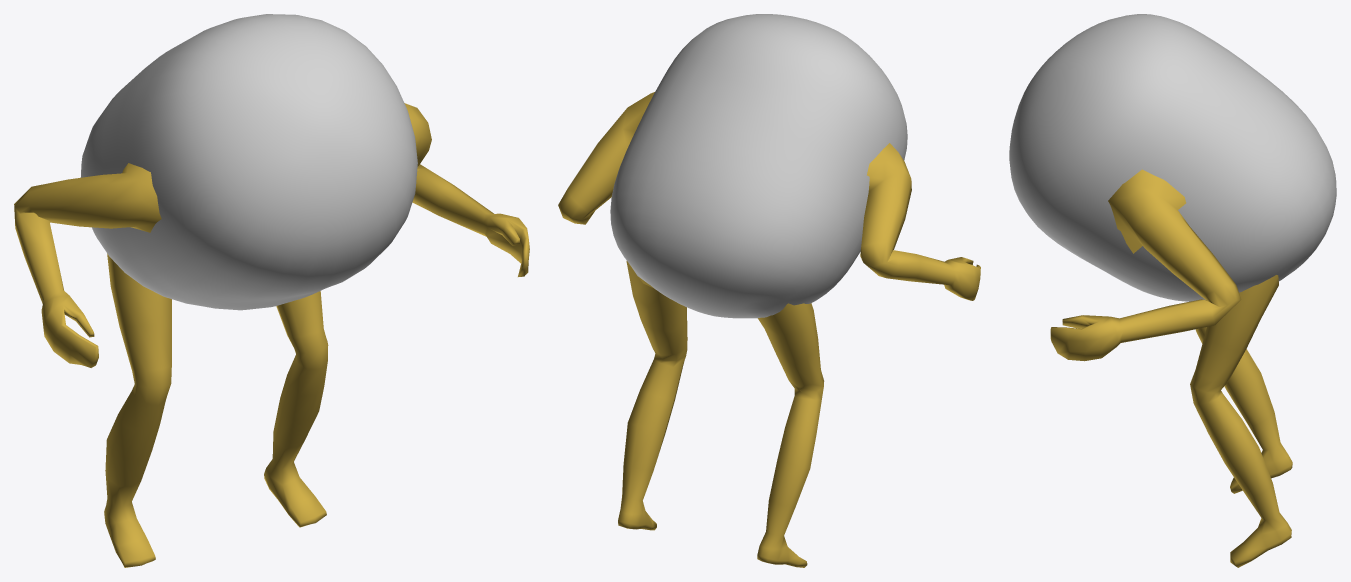
The model's file is run.obj.
3 views of the same model, side by side, from view 1: azimuth 30°, elevation 25°; view 2: azimuth 150°, elevation 25°; view 3: azimuth 270°, elevation 25° (orthographic). The views are drawn at different scales.
Visible parts, largest first — view 1: Cube, Cube.001, Cube.002, Cube.004, Cube.003; view 2: Cube, Cube.001, Cube.004, Cube.002, Cube.003; view 3: Cube, Cube.003, Cube.004, Cube.001.
Part boxes in pixels (x1,y1,x2,y2): Cube: (80, 14, 417, 310); Cube.001: (104, 253, 171, 567); Cube.002: (14, 163, 161, 367); Cube.004: (264, 291, 328, 527); Cube.003: (404, 103, 529, 276); Cube: (610, 14, 907, 318); Cube.001: (757, 303, 824, 567); Cube.004: (618, 261, 687, 530); Cube.002: (860, 143, 980, 300); Cube.003: (558, 92, 654, 224); Cube: (1009, 14, 1336, 301); Cube.003: (1050, 169, 1241, 361); Cube.004: (1190, 275, 1291, 567); Cube.001: (1195, 327, 1292, 493).
Bounding box in the file's own units: 3.29 × 3.87 × 2.33.
